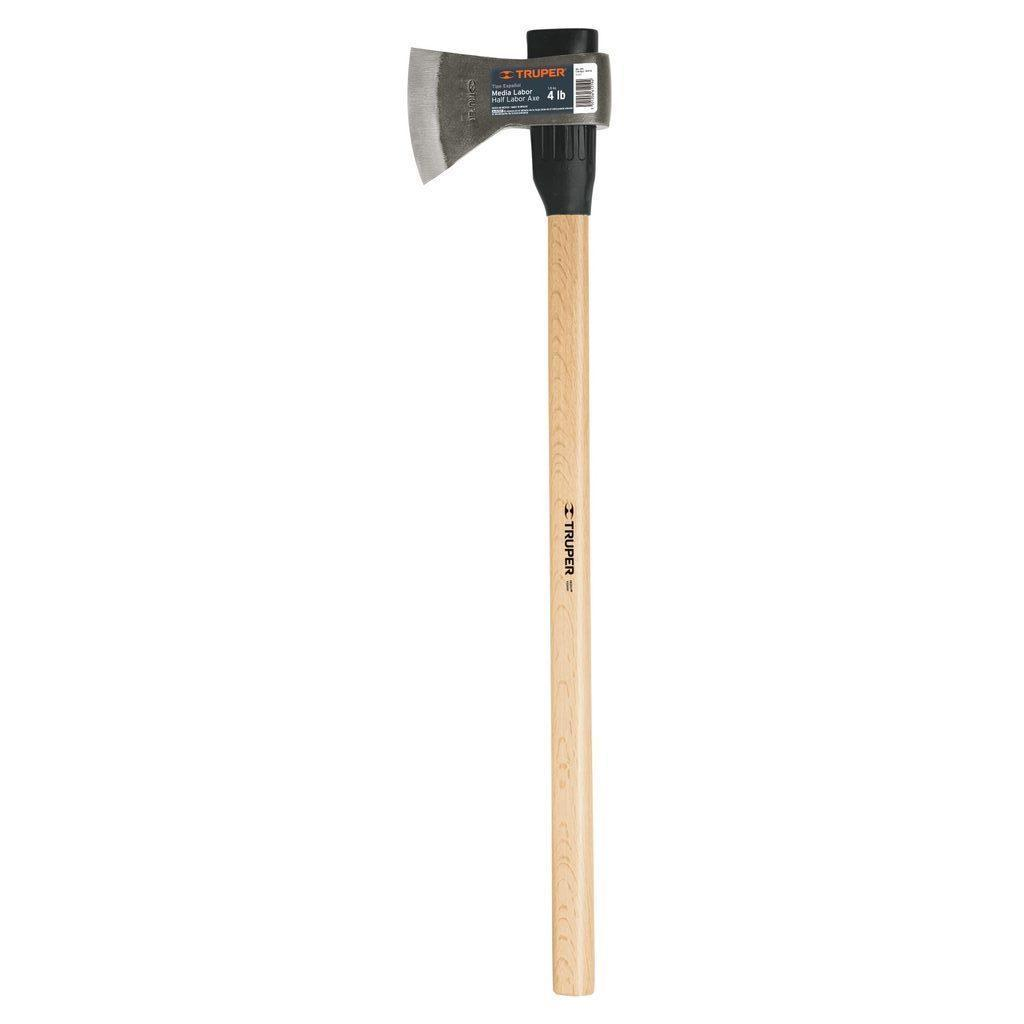machado: (409, 29, 609, 995)
